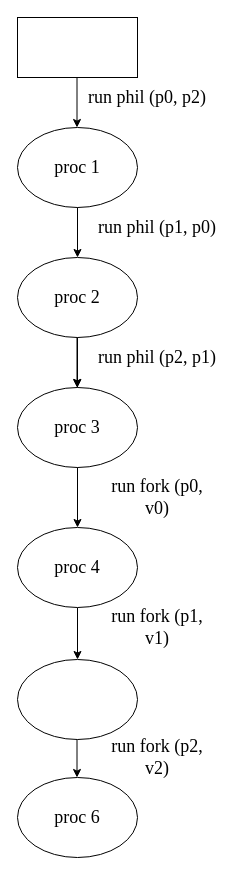
Image size: 235x875. Some labels were removed from this diagram. Each missing label, with the box of its shape:
init (proc 0): (16, 16, 138, 78)
proc 5: (16, 658, 138, 740)
